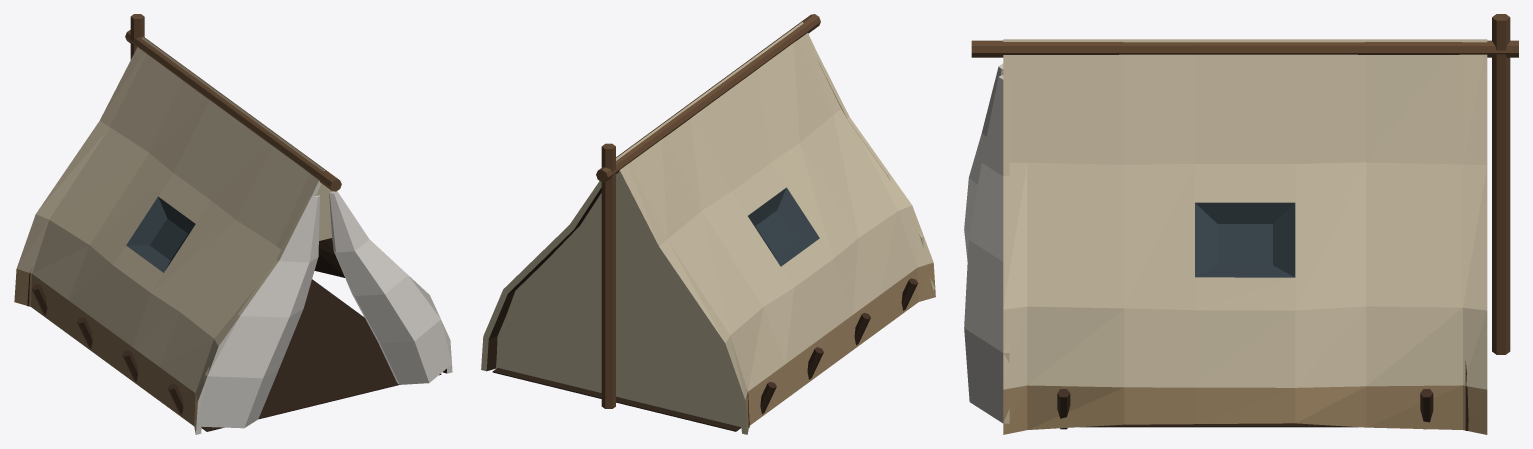
Rendered from camp-tent-3c5c89.glb.
3 views of the same model, side by side, from view 1: azimuth 30°, elevation 25°; view 2: azimuth 150°, elevation 25°; view 3: azimuth 270°, elevation 25° (orthographic). The views are drawn at different scales.
Parts seen in each view (by area): view 1: camp-tent-shell; view 2: camp-tent-shell; view 3: camp-tent-shell.
Part boxes in pixels (x1,y1,x2,y2): camp-tent-shell: [14, 14, 452, 434]; camp-tent-shell: [481, 14, 935, 434]; camp-tent-shell: [964, 14, 1518, 434].
Size of the model in its own units: 2.23 by 1.98 by 2.98.
